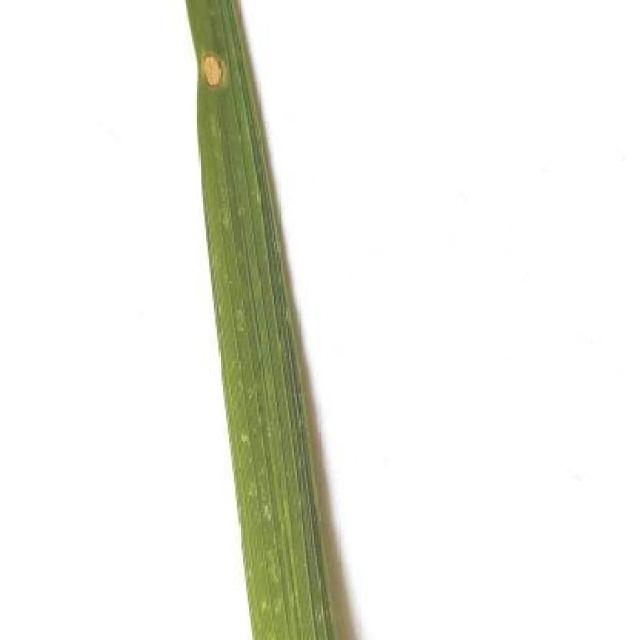Bacterial_Leaf_Blight: (188, 36, 228, 90)
